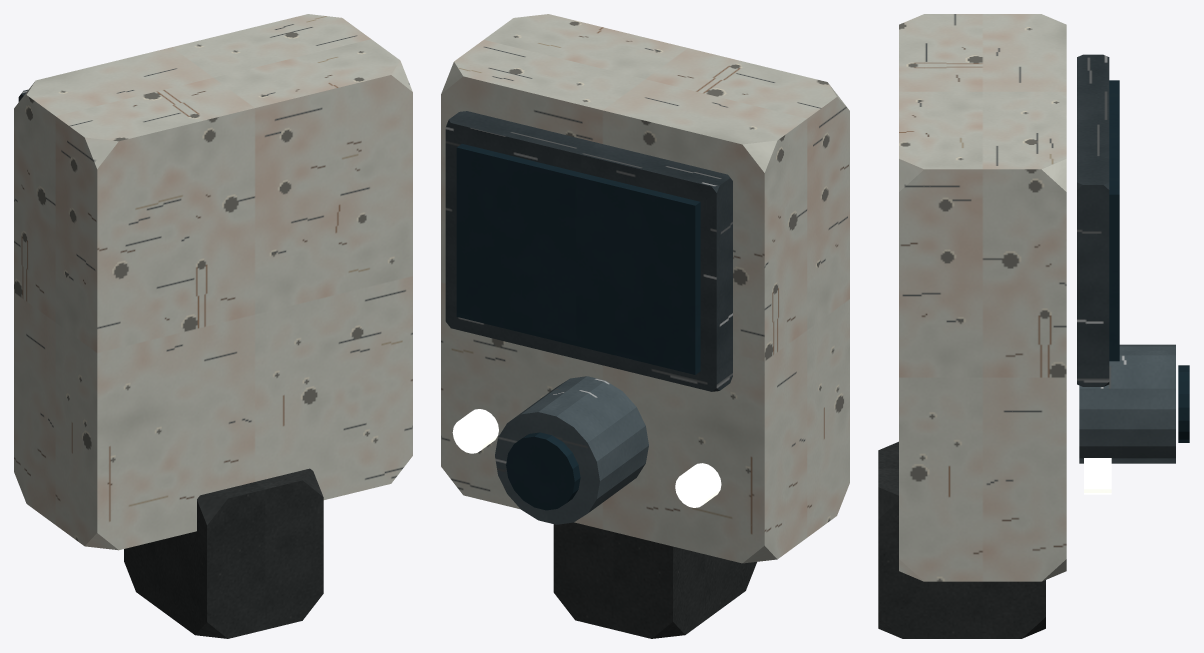
File: field_kit_6.glb
3 renders of one model, left to right at view 1: azimuth 30°, elevation 25°; view 2: azimuth 150°, elevation 25°; view 3: azimuth 270°, elevation 25°, orthographic. The views are drawn at different scales.
Parts seen in each view (by area): view 1: inspection_body_rover_white, inspection_handgrip_black_rubber; view 2: inspection_body_rover_white, inspection_blank_glass_dark_glass, inspection_screen_frame_graphite, inspection_handgrip_black_rubber, inspection_objective_dark_alloy, inspection_glass_dark_glass, inspection_workled_-0.055_lamp_white, inspection_workled_0.055_lamp_white; view 3: inspection_body_rover_white, inspection_handgrip_black_rubber, inspection_screen_frame_graphite, inspection_objective_dark_alloy, inspection_blank_glass_dark_glass, inspection_workled_0.055_lamp_white, inspection_glass_dark_glass.
Boxes of the visible parts, box(x1,y1,x2,y2) form: inspection_body_rover_white: box(14, 14, 412, 550); inspection_handgrip_black_rubber: box(124, 468, 323, 638); inspection_body_rover_white: box(441, 14, 849, 563); inspection_blank_glass_dark_glass: box(456, 143, 700, 374); inspection_screen_frame_graphite: box(445, 111, 732, 391); inspection_handgrip_black_rubber: box(553, 522, 756, 638); inspection_objective_dark_alloy: box(495, 376, 648, 524); inspection_glass_dark_glass: box(506, 432, 580, 510); inspection_workled_-0.055_lamp_white: box(675, 463, 721, 507); inspection_workled_0.055_lamp_white: box(452, 409, 498, 453); inspection_body_rover_white: box(899, 14, 1066, 581); inspection_handgrip_black_rubber: box(878, 441, 1045, 638); inspection_screen_frame_graphite: box(1077, 54, 1109, 386); inspection_objective_dark_alloy: box(1079, 344, 1175, 463); inspection_blank_glass_dark_glass: box(1109, 80, 1119, 361); inspection_workled_0.055_lamp_white: box(1084, 458, 1111, 494); inspection_glass_dark_glass: box(1178, 365, 1189, 442).
Size of the model in its own units: 0.16 by 0.249 by 0.1355.
6 materials, 6 textured.
